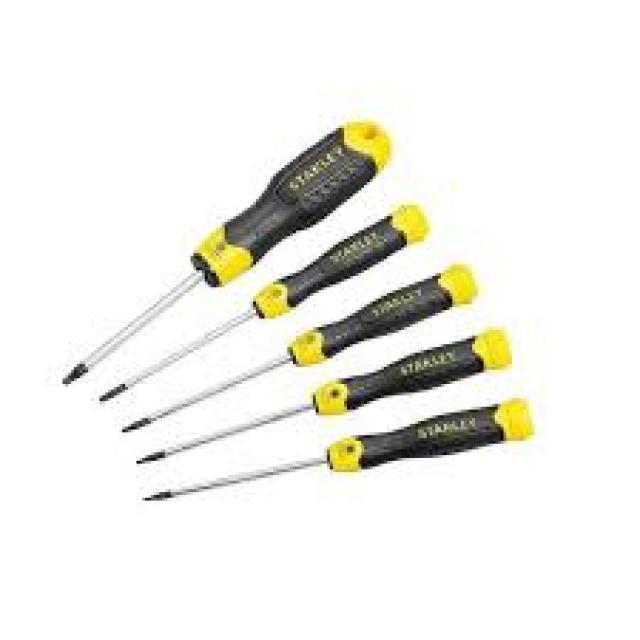screwdriver: (57, 115, 396, 391), (94, 204, 432, 406), (113, 260, 480, 434), (134, 326, 515, 466), (135, 397, 536, 505)
